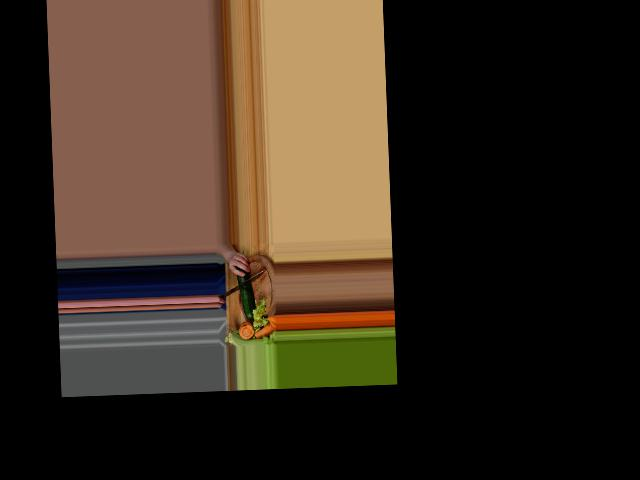cucumber: (236, 266, 255, 320)
